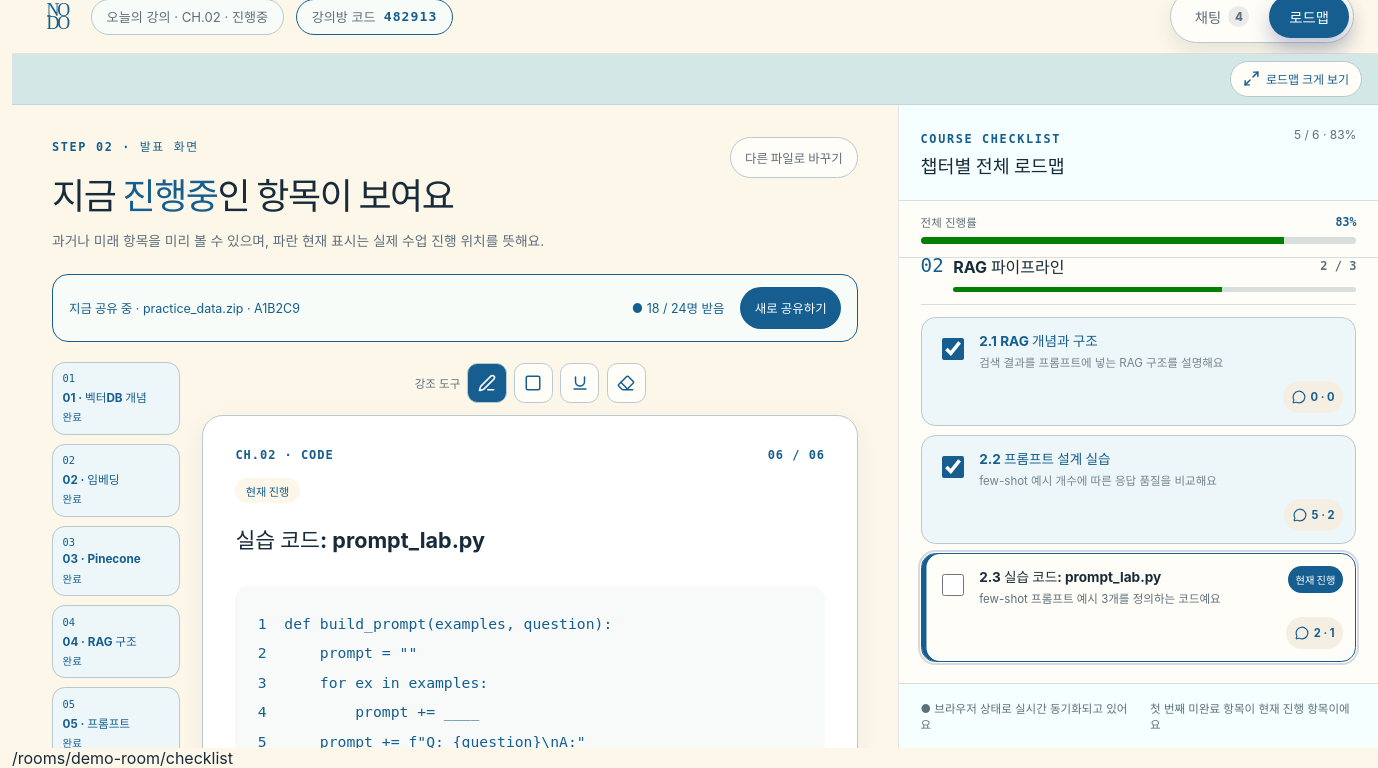
Test case: NoDo 00-7 demo course flow › 마지막 미완료 항목을 체크하면 현재 항목 없이 강의 완료를 표시한다
(page scrolled)
Click the checkbox named "실습 코드: prompt_lab.py 완료" at (953, 585), box [942,574,964,595]
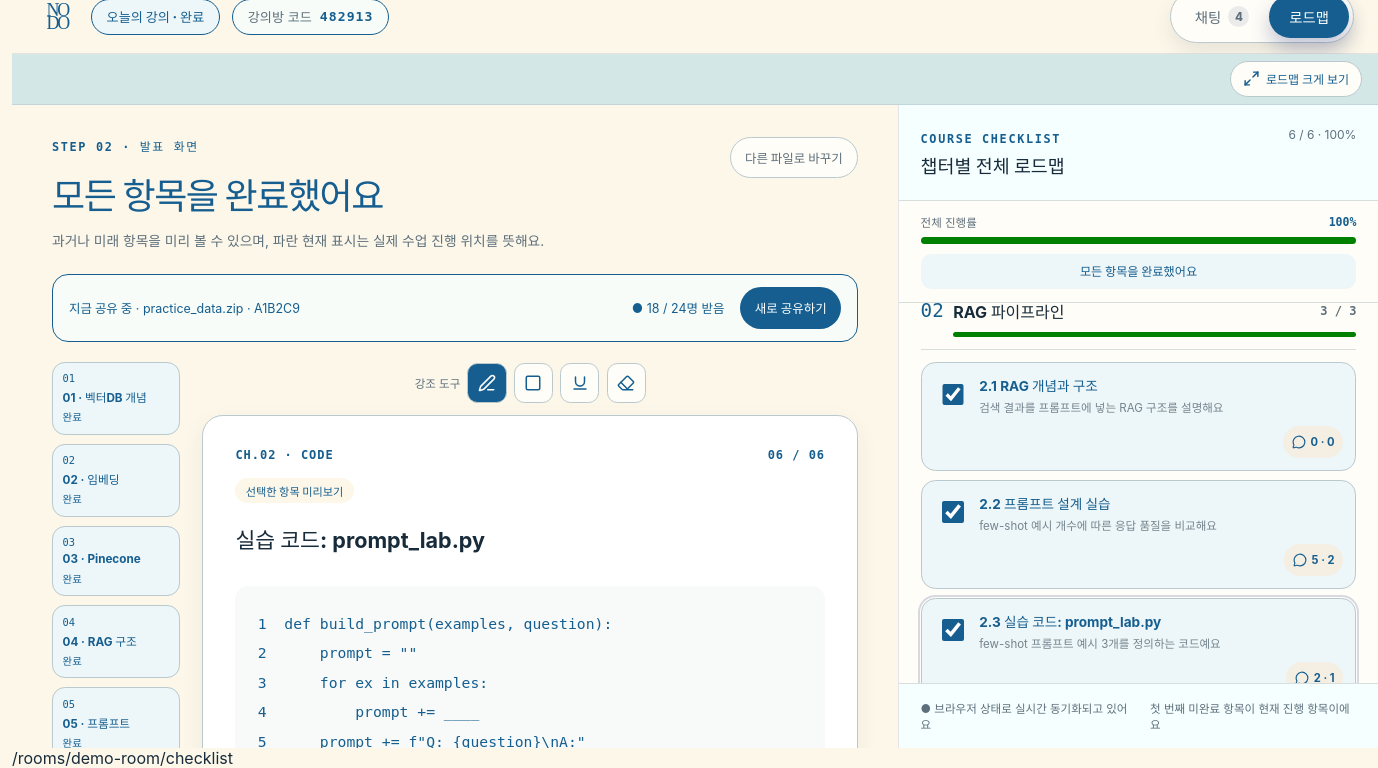
Expected: the text "100%" is shown, [1329,214,1356,228]
Expected: the message reads "모든 항목을 완료했어요", [1080,264,1197,279]
